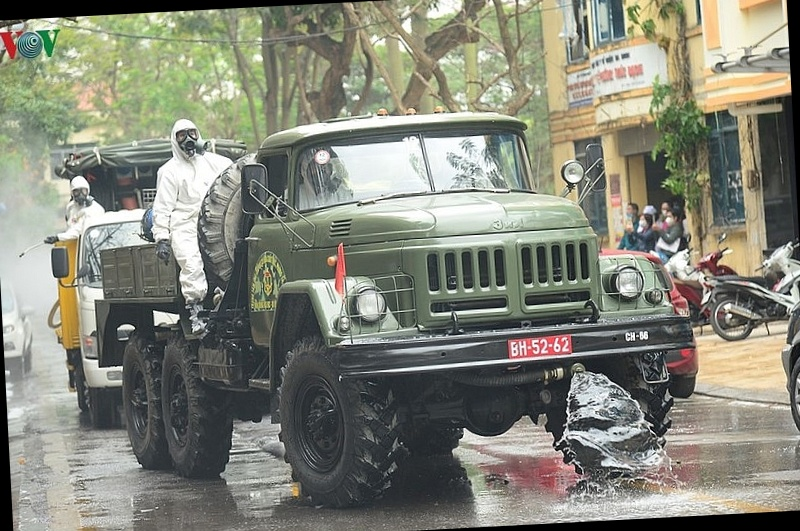plate: (507, 330, 583, 369)
